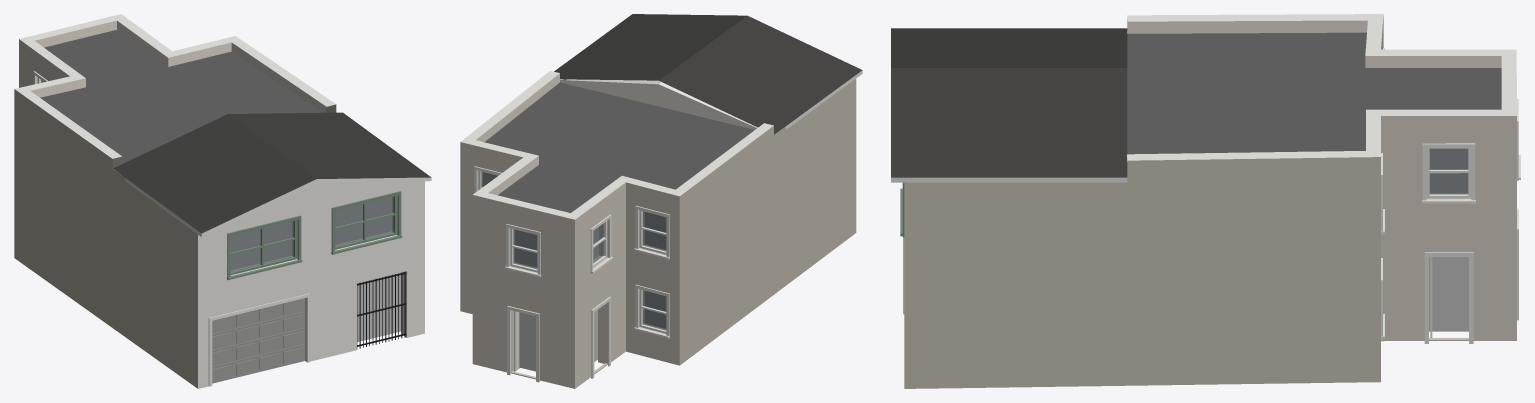
The model's file is exterior.glb.
3 renders of one model, left to right at view 1: azimuth 30°, elevation 25°; view 2: azimuth 150°, elevation 25°; view 3: azimuth 270°, elevation 25°, orthographic. The views are drawn at different scales.
Visible parts, largest first — view 1: shell, roof, doors, shadow-proxy, glazing, trim, frames, gable; view 2: shell, roof, trim, shadow-proxy, glazing, gable, frames, doors; view 3: shell, roof, shadow-proxy, trim, glazing, frames.
Boxes of the visible parts, x1=… form: shell: x1=14, y1=14, x2=424, y2=388; roof: x1=40, y1=30, x2=431, y2=236; doors: x1=208, y1=271, x2=406, y2=386; shadow-proxy: x1=231, y1=197, x2=401, y2=341; glazing: x1=41, y1=80, x2=393, y2=271; trim: x1=33, y1=71, x2=402, y2=280; frames: x1=37, y1=77, x2=396, y2=274; gable: x1=239, y1=181, x2=393, y2=219; shell: x1=460, y1=71, x2=856, y2=388; roof: x1=485, y1=14, x2=862, y2=212; trim: x1=474, y1=166, x2=669, y2=382; shadow-proxy: x1=483, y1=172, x2=665, y2=371; glazing: x1=481, y1=172, x2=666, y2=330; gable: x1=560, y1=80, x2=756, y2=129; frames: x1=478, y1=170, x2=666, y2=333; doors: x1=510, y1=311, x2=607, y2=379; shell: x1=904, y1=14, x2=1516, y2=388; roof: x1=891, y1=28, x2=1501, y2=182; shadow-proxy: x1=1429, y1=149, x2=1468, y2=331; trim: x1=900, y1=48, x2=1520, y2=343; glazing: x1=1429, y1=148, x2=1468, y2=194; frames: x1=1426, y1=148, x2=1471, y2=198.
Size of the model in its own units: 8 by 6.17 by 14.12.
